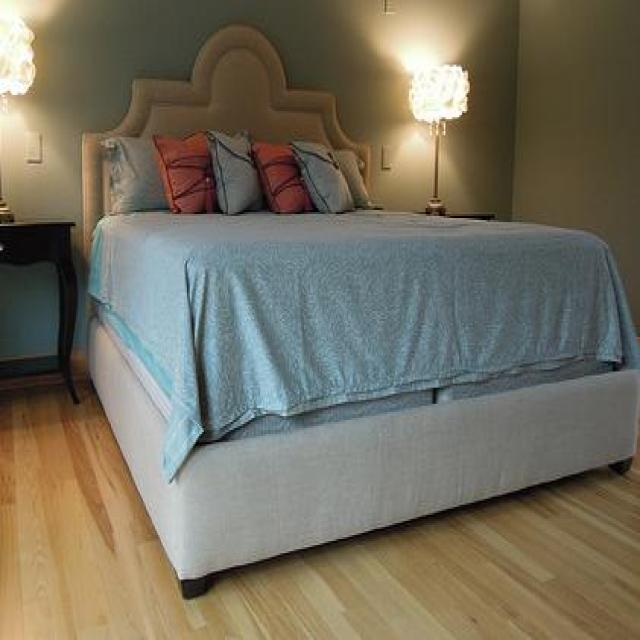bed: (79, 22, 640, 600)
table: (0, 216, 81, 404)
